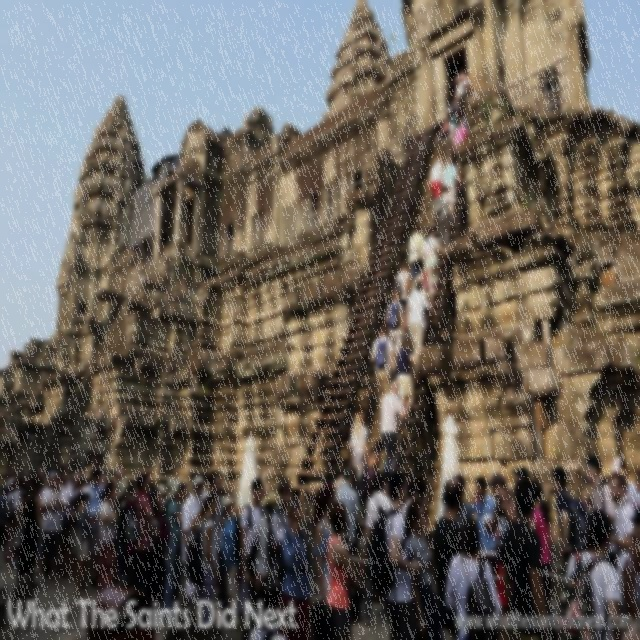pessoa: (370, 468, 424, 639), (500, 476, 554, 638), (558, 507, 624, 639), (444, 516, 502, 639), (402, 496, 448, 639), (550, 464, 592, 596), (432, 476, 466, 638), (323, 499, 360, 639), (529, 478, 560, 639), (361, 472, 393, 627), (482, 472, 518, 609), (278, 499, 313, 639), (348, 466, 375, 639), (582, 454, 620, 576), (204, 468, 230, 639), (58, 468, 92, 590), (158, 476, 184, 624), (125, 470, 154, 600), (36, 472, 69, 584), (115, 471, 142, 602), (313, 478, 340, 606), (254, 490, 286, 597), (620, 471, 640, 638), (15, 472, 42, 595), (194, 491, 218, 628), (180, 473, 205, 604), (146, 463, 168, 610), (607, 472, 636, 577), (239, 477, 266, 582), (74, 486, 100, 594), (392, 340, 422, 428), (370, 323, 396, 423), (380, 378, 406, 478), (405, 278, 437, 358), (268, 478, 293, 580), (249, 574, 288, 639), (31, 472, 54, 582), (334, 467, 362, 557), (347, 410, 370, 516), (470, 476, 500, 554), (226, 550, 252, 639), (303, 527, 323, 639), (260, 555, 286, 639), (578, 496, 622, 543), (98, 480, 116, 594), (220, 493, 237, 609), (430, 184, 458, 254), (419, 226, 443, 305), (608, 456, 640, 513), (442, 473, 474, 528), (384, 288, 406, 360), (164, 610, 215, 639), (441, 156, 461, 222), (432, 116, 454, 170), (394, 260, 410, 332), (82, 467, 105, 515), (408, 224, 426, 284), (362, 446, 380, 504), (429, 153, 444, 220), (438, 89, 456, 144), (454, 120, 468, 184), (409, 270, 436, 300), (374, 467, 394, 504), (401, 481, 420, 518), (458, 84, 472, 129), (447, 96, 459, 144), (326, 463, 344, 490), (176, 477, 190, 508), (372, 602, 390, 626), (455, 68, 472, 92), (454, 77, 466, 102), (99, 468, 109, 496), (514, 464, 528, 482), (454, 112, 464, 128), (200, 488, 210, 499), (218, 485, 226, 497), (468, 85, 474, 94)
